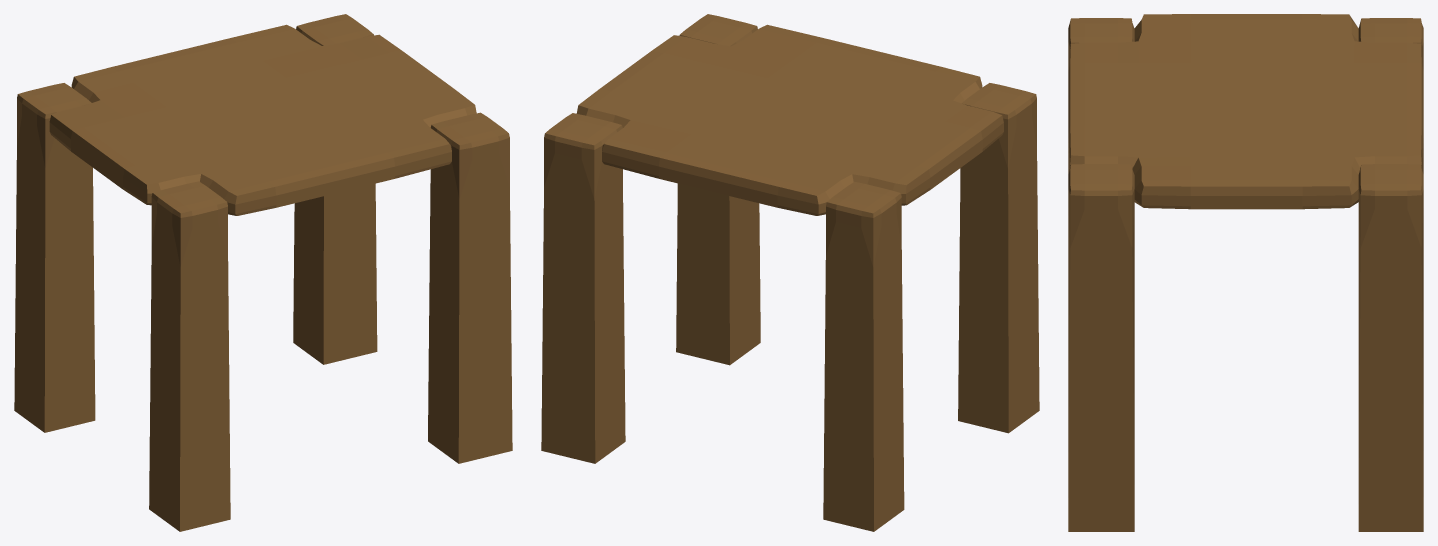
File: mesaNochePadres.fbx
3 views of the same model, side by side, from view 1: azimuth 30°, elevation 25°; view 2: azimuth 150°, elevation 25°; view 3: azimuth 270°, elevation 25° (orthographic). The views are drawn at different scales.
Parts seen in each view (by area): view 1: Cube.006; view 2: Cube.006; view 3: Cube.006.
Part boxes in pixels (left/top/right/bottom): Cube.006: left=14, top=14, right=512, bottom=531; Cube.006: left=541, top=14, right=1039, bottom=531; Cube.006: left=1068, top=14, right=1423, bottom=531.
Size of the model in its own units: 232 by 214 by 200.
